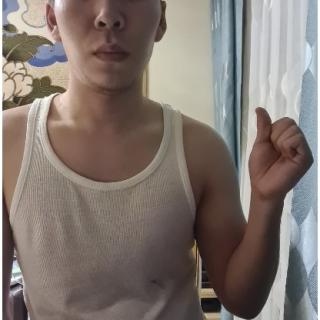WAW: (242, 103, 315, 205)
